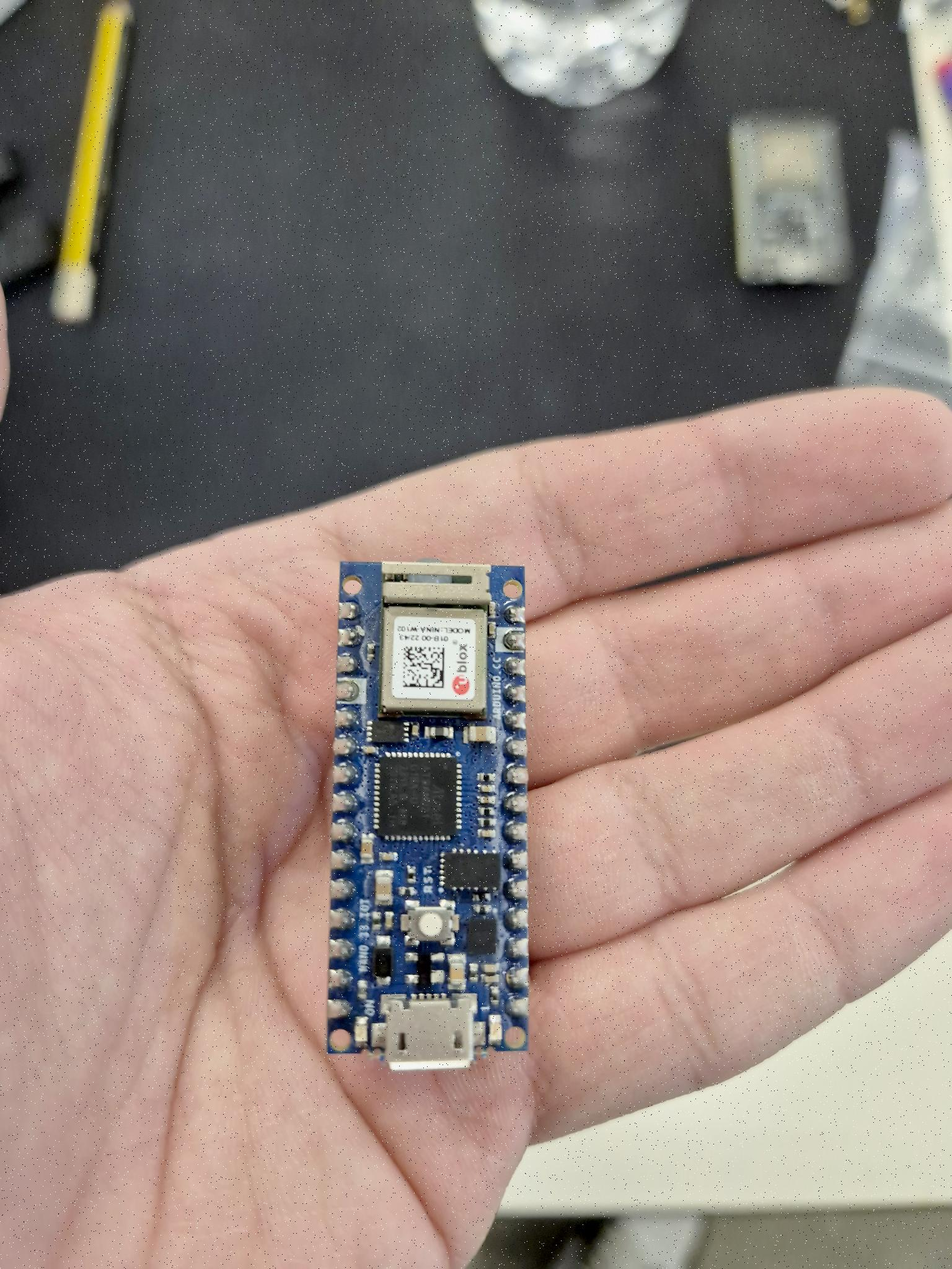arduino-nano-iot-33: (336, 552, 530, 1056)
